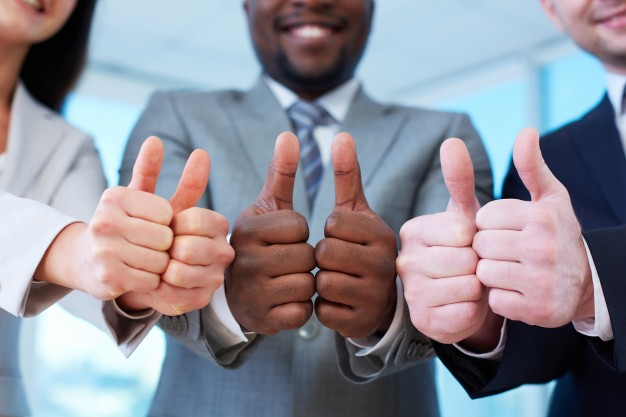thumbsup: (472, 127, 566, 328), (314, 132, 396, 337), (393, 136, 478, 333), (233, 132, 314, 333), (87, 135, 172, 294), (154, 148, 235, 314)
